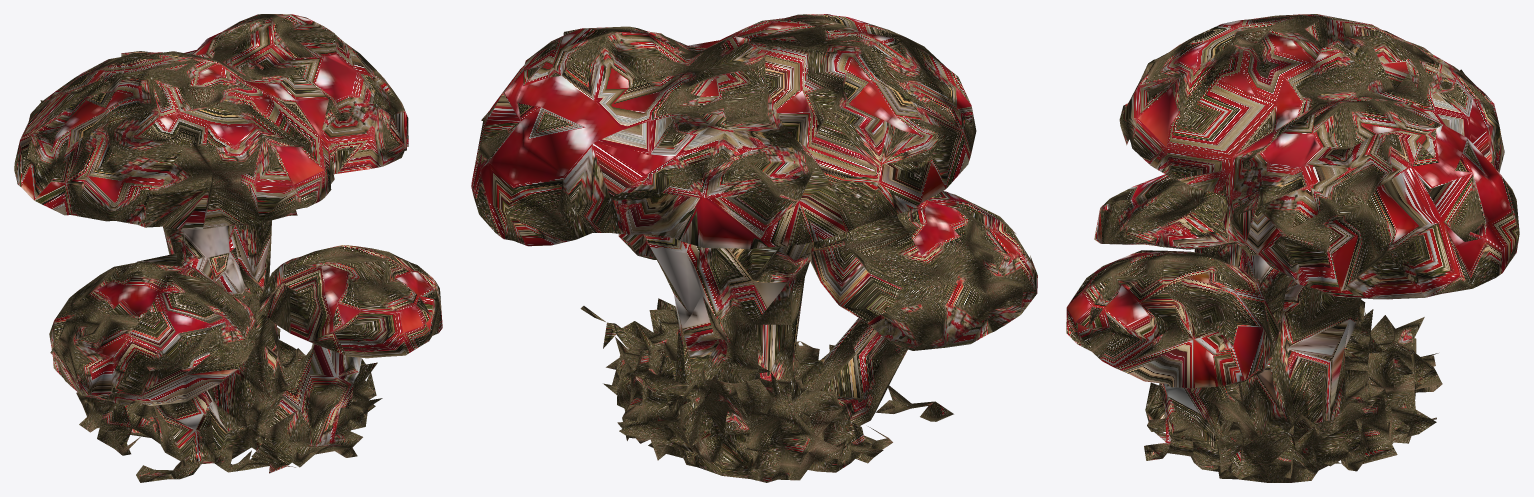
The model's file is mushrooms-red.glb.
3 renders of one model, left to right at view 1: azimuth 30°, elevation 25°; view 2: azimuth 150°, elevation 25°; view 3: azimuth 270°, elevation 25°, orthographic. The views are drawn at different scales.
Bounding box in the file's own units: 0.5671 × 0.5 × 0.5378.
Materials: 1 (1 with a texture image).
